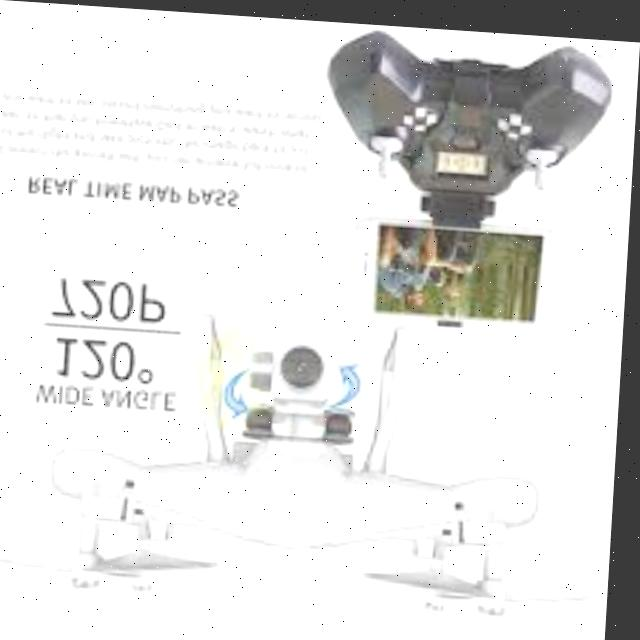drone: (0, 291, 591, 630)
